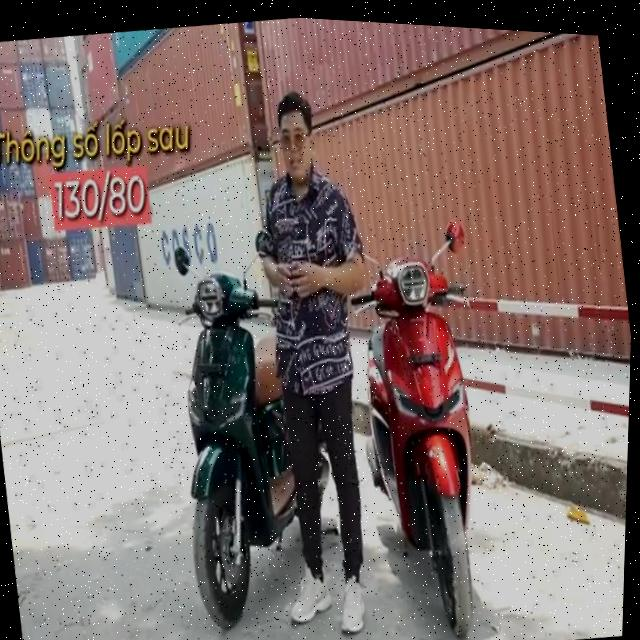motorcycle: (322, 212, 537, 640), (126, 223, 339, 639)
